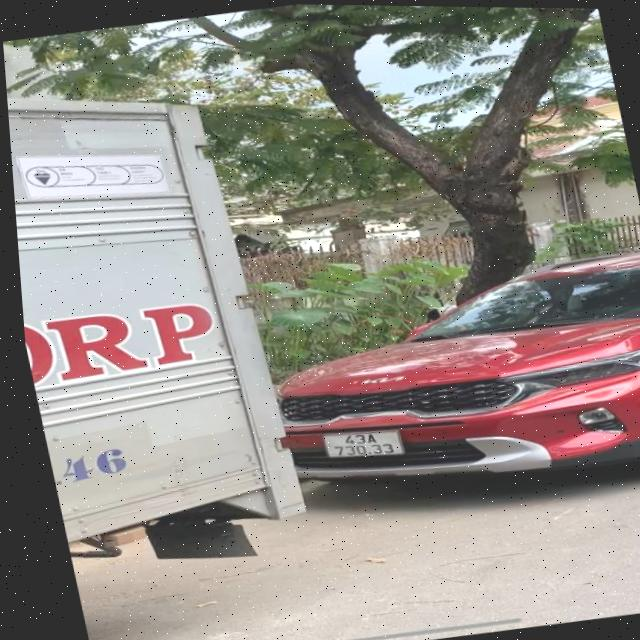car: (5, 67, 296, 577), (247, 227, 640, 527)
plate: (315, 418, 409, 471)
